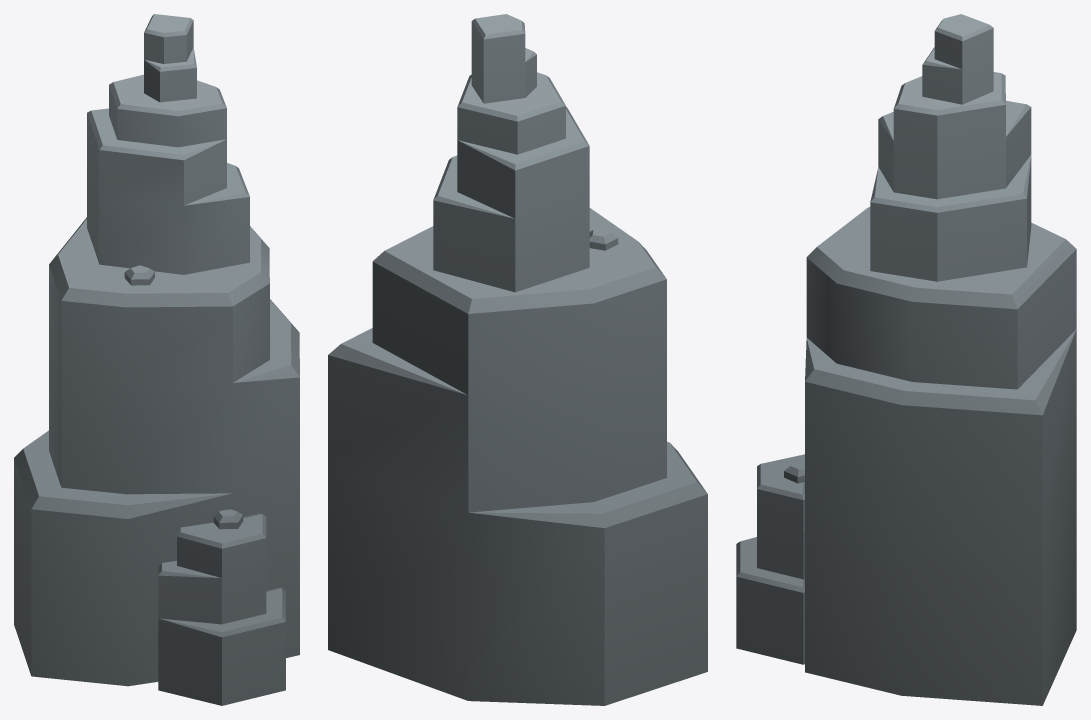
File: Rock_1_N.glb
3 views of the same model, side by side, from view 1: azimuth 30°, elevation 25°; view 2: azimuth 150°, elevation 25°; view 3: azimuth 270°, elevation 25° (orthographic). The views are drawn at different scales.
Parts seen in each view (by area): view 1: Rock_1_N_Color1; view 2: Rock_1_N_Color1; view 3: Rock_1_N_Color1.
Boxes of the visible parts, bbox=[...] form: Rock_1_N_Color1: bbox=[14, 14, 299, 705]; Rock_1_N_Color1: bbox=[328, 14, 707, 705]; Rock_1_N_Color1: bbox=[736, 14, 1076, 705].
Size of the model in its own units: 2.31 by 4.5 by 2.24.
Materials: 1 (1 with a texture image).
